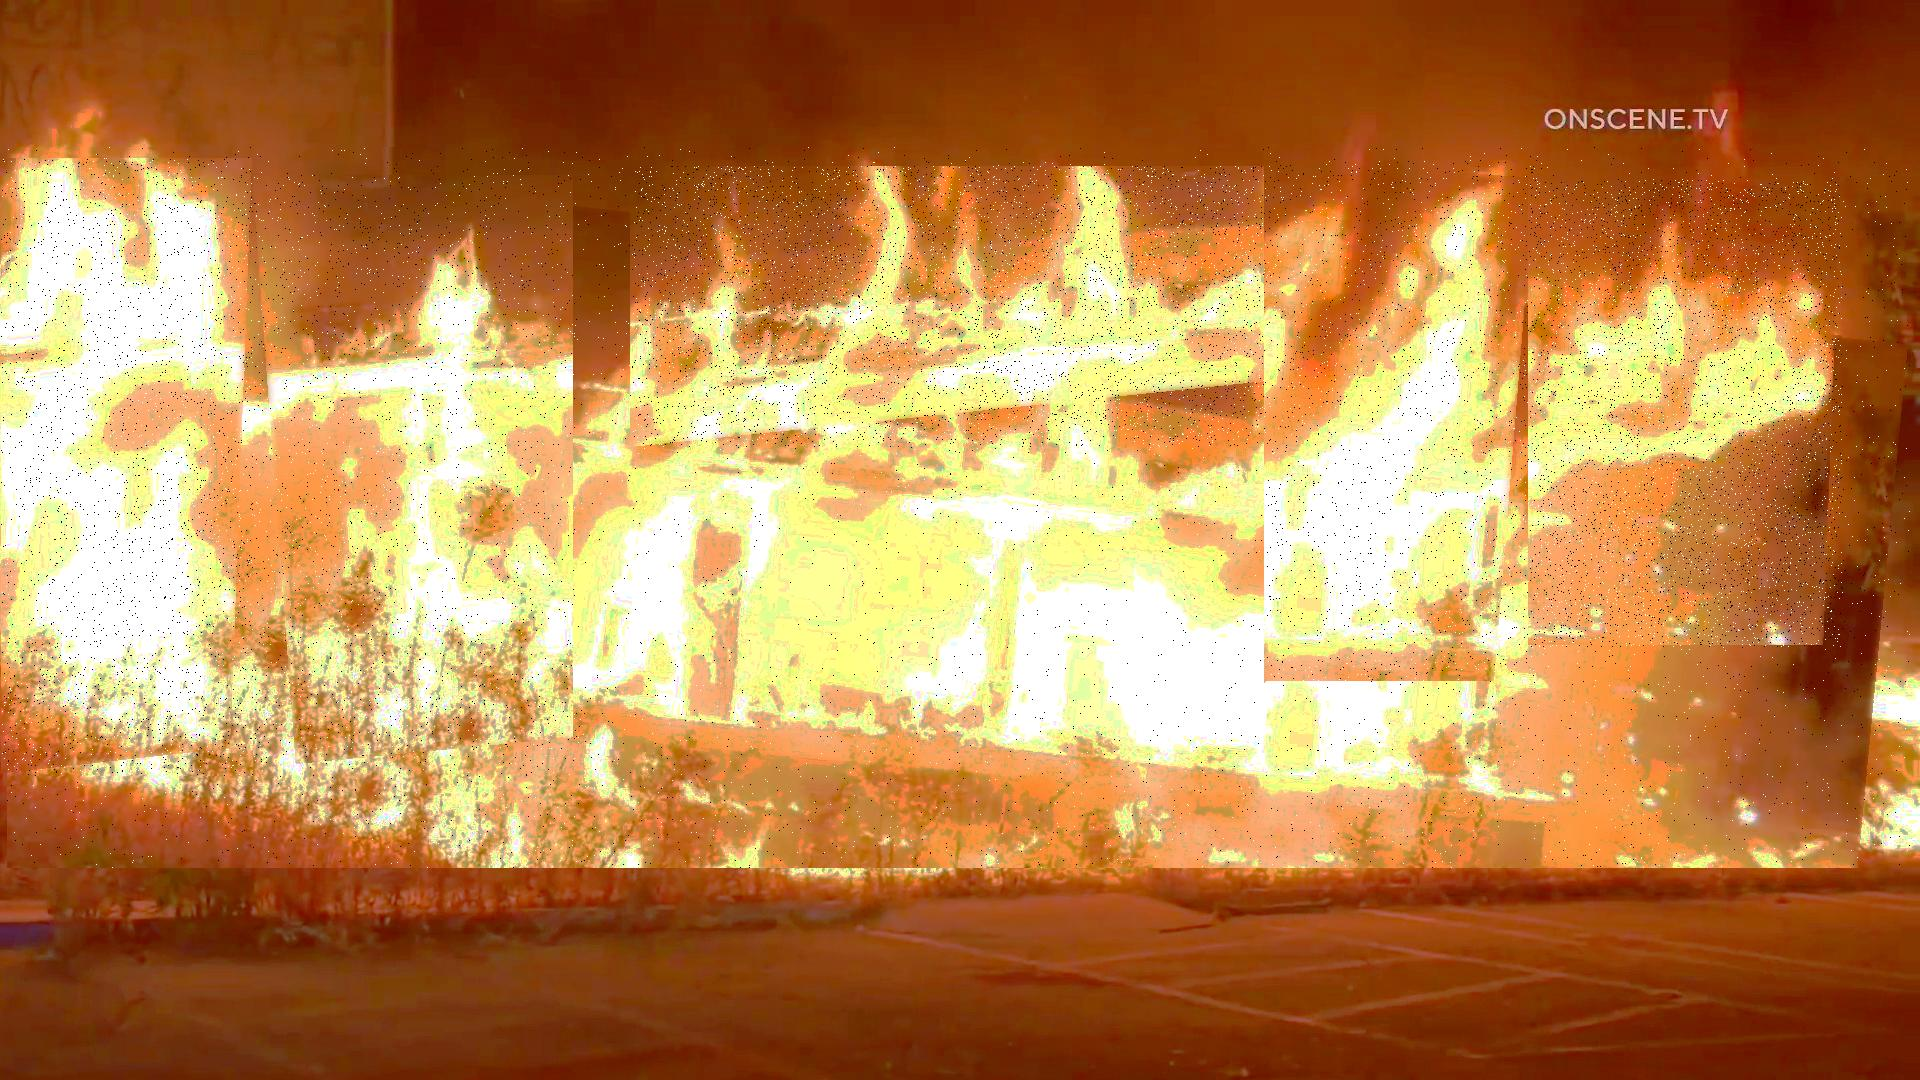fire: (8, 148, 1911, 868), (255, 175, 576, 765), (633, 166, 1267, 447), (1, 158, 253, 777), (1531, 181, 1844, 647), (1267, 161, 1538, 684)
